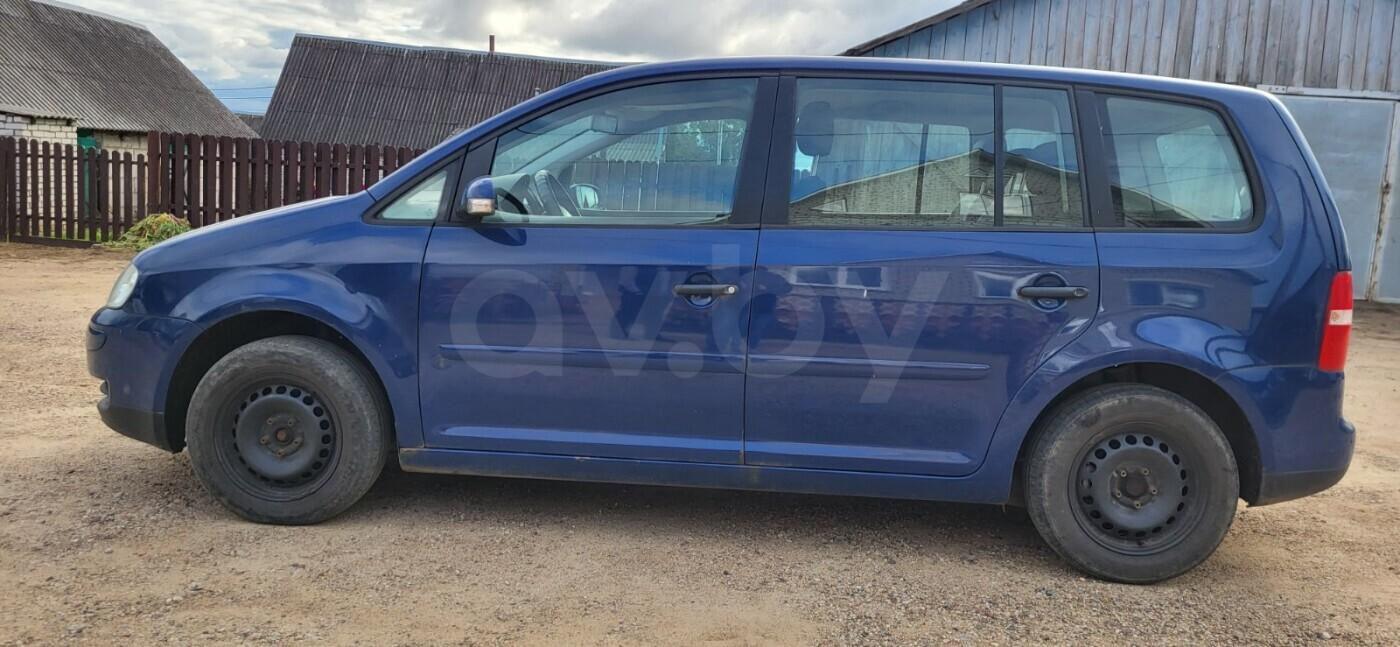Touran_2003-2006: (80, 53, 1359, 584)
